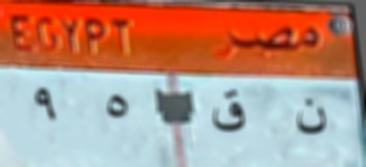5: (104, 90, 132, 121)
9: (35, 83, 59, 126)
noon: (294, 92, 331, 140)
qaaf: (210, 84, 250, 140)
